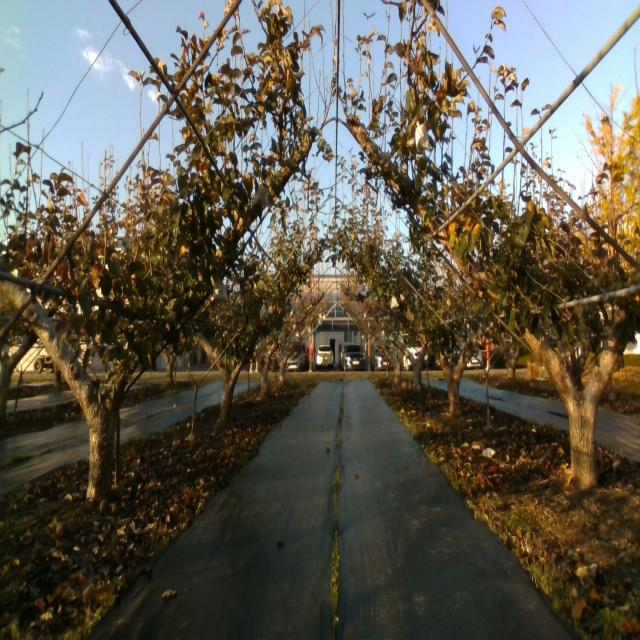pearbags: (415, 121, 432, 151), (251, 183, 271, 206), (212, 278, 228, 302)
